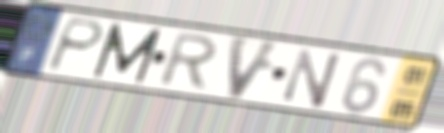6: (338, 56, 388, 116)
M: (90, 21, 166, 85)
N: (280, 47, 345, 111)
P: (42, 16, 108, 74)
R: (154, 32, 222, 92)
V: (225, 33, 285, 103)
